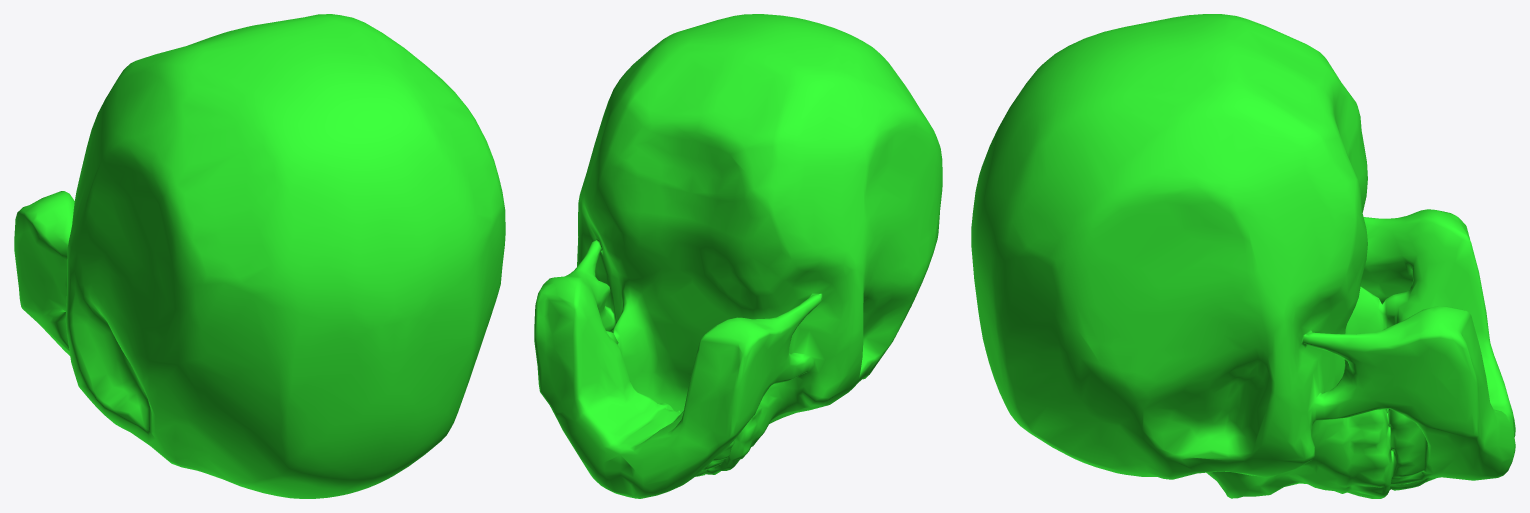
File: Humanskull.obj
3 renders of one model, left to right at view 1: azimuth 30°, elevation 25°; view 2: azimuth 150°, elevation 25°; view 3: azimuth 270°, elevation 25°, orthographic. The views are drawn at different scales.
Parts seen in each view (by area): view 1: Humanskull; view 2: Humanskull; view 3: Humanskull.
Boxes of the visible parts, left/top/right/bottom form: Humanskull: left=14, top=14, right=505, bottom=498; Humanskull: left=534, top=14, right=942, bottom=498; Humanskull: left=971, top=14, right=1515, bottom=498.
Size of the model in its own units: 0.7097 by 0.9189 by 1.
